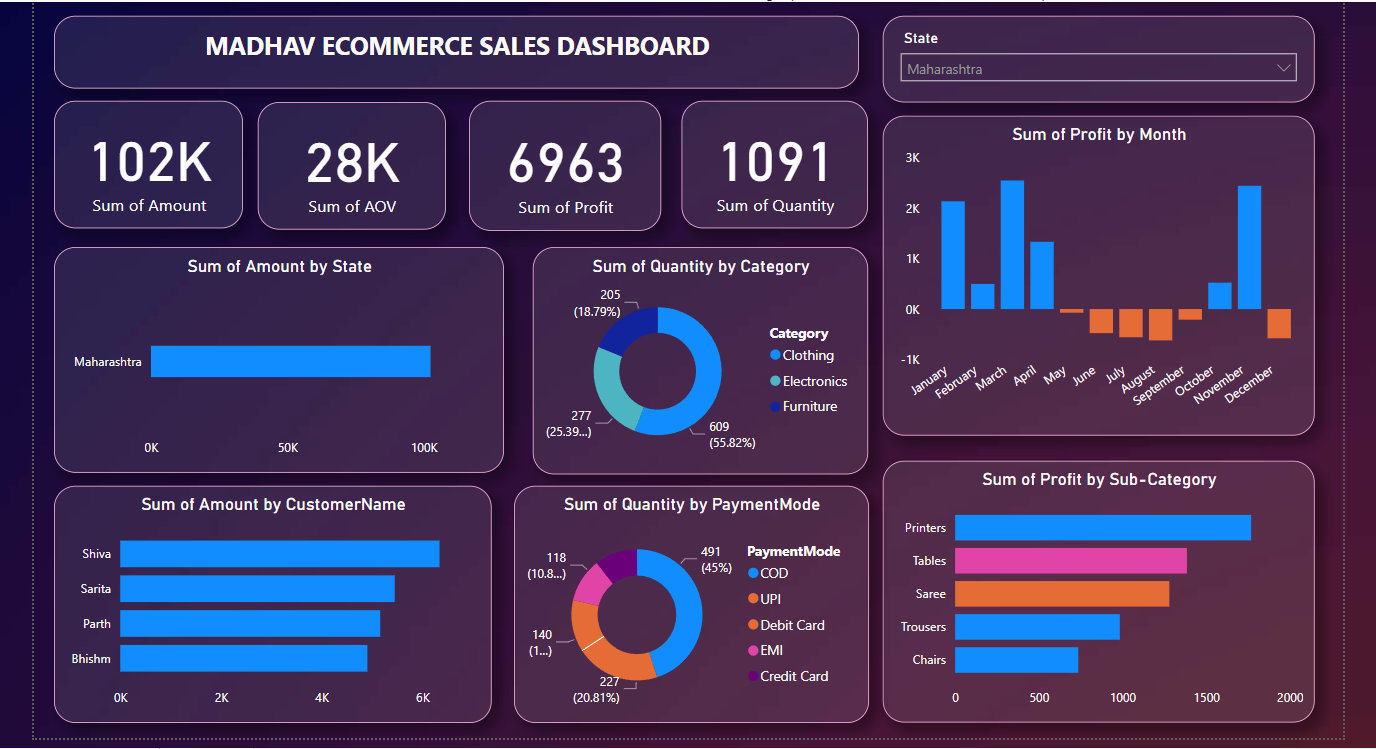

Layout of this report page (visuals, bound fields, positions):
{"tool":"powerbi","page":{"name":"Page 1","canvas":[1280,720],"ordinal":0},"visuals":[{"type":"textbox","box":[19.2,13.7,787,71.3],"z":0},{"type":"columnChart","fields":{"Category":["Orders.Order Date.Variation.Date Hierarchy.Month"],"Y":["Details.Profit"]},"box":[829.5,111.1,422.3,312.6],"z":1000},{"type":"clusteredBarChart","fields":{"Category":["Details.Sub-Category"],"Y":["Details.Profit"]},"box":[829.5,448.3,422.3,256.4],"z":2000},{"type":"donutChart","fields":{"Category":["Details.Category"],"Y":["Details.Quantity"]},"box":[488.1,239.9,327.7,222.1],"z":3000},{"type":"donutChart","fields":{"Category":["Details.PaymentMode"],"Y":["Details.Quantity"]},"box":[468.9,473,346.9,231.7],"z":4000},{"type":"card","fields":{"Values":["Details.Amount"]},"box":[19.2,96,185.1,124.8],"z":5000},{"type":"card","fields":{"Values":["Details.Quantity"]},"box":[633.4,96,182.3,124.8],"z":6000},{"type":"card","fields":{"Values":["Details.Profit"]},"box":[425,96,187.8,127.5],"z":7000},{"type":"clusteredBarChart","title":"Sum of Amount by State ","fields":{"Category":["Orders.State"],"Y":["Details.Amount"],"Series":["Orders.State"]},"box":[19.2,239.9,440.1,220.7],"z":8000},{"type":"clusteredBarChart","fields":{"Y":["Details.Amount"],"Category":["Orders.CustomerName"]},"box":[19.2,473,427.8,231.7],"z":9000},{"type":"slicer","fields":{"Values":["Orders.State"]},"box":[829.5,13.7,422.3,85],"z":10000},{"type":"card","fields":{"Values":["Details.AOV"]},"box":[219.4,97.3,183.7,124.8],"z":11000}]}

Visuals, with their boxes in screenshot pixels (x1, y1, x2, y2):
textbox: rect(48, 10, 856, 84)
columnChart - Orders.Order Date.Variation.Date Hierarchy.Month x Details.Profit: rect(880, 110, 1313, 431)
clusteredBarChart - Details.Sub-Category x Details.Profit: rect(880, 456, 1313, 719)
donutChart - Details.Category x Details.Quantity: rect(529, 243, 866, 470)
donutChart - Details.PaymentMode x Details.Quantity: rect(510, 482, 866, 719)
card - Details.Amount: rect(48, 95, 238, 223)
card - Details.Quantity: rect(678, 95, 865, 223)
card - Details.Profit: rect(465, 95, 657, 226)
"Sum of Amount by State " clusteredBarChart: rect(48, 243, 500, 469)
clusteredBarChart - Details.Amount x Orders.CustomerName: rect(48, 482, 487, 719)
slicer - Orders.State: rect(880, 10, 1313, 98)
card - Details.AOV: rect(254, 96, 442, 224)
